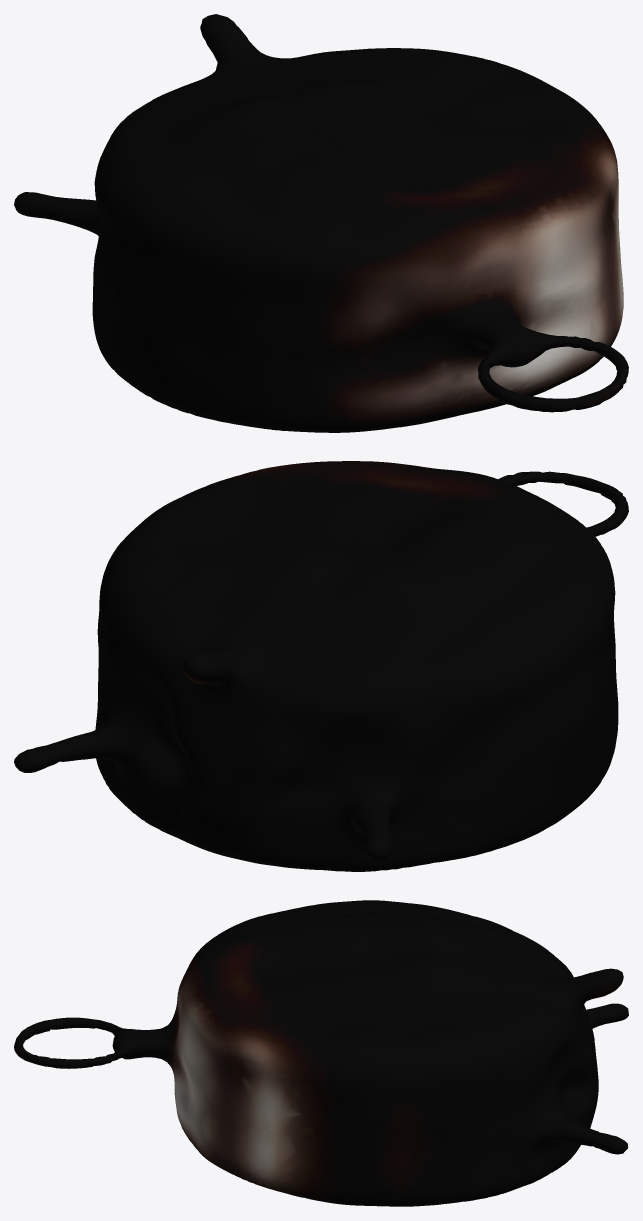
Rendered from alarm.glb.
The picture shows the model from 3 angles, top to bottom: view 1: azimuth 30°, elevation 25°; view 2: azimuth 150°, elevation 25°; view 3: azimuth 270°, elevation 25°; orthographic projection. The views are drawn at different scales.
Bounding box in the file's own units: 0.6745 × 0.3274 × 0.9973.
